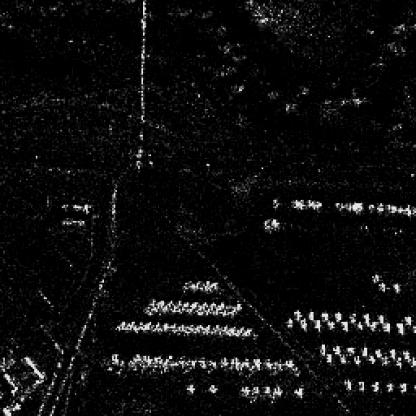airplane: (395, 354, 405, 368), (359, 343, 371, 354), (340, 353, 350, 364), (352, 354, 362, 364), (299, 318, 309, 328), (369, 271, 379, 281), (398, 380, 406, 392), (388, 346, 396, 358), (318, 342, 326, 354), (185, 384, 197, 392), (332, 344, 341, 354), (370, 379, 378, 390), (356, 379, 364, 390), (343, 377, 351, 388), (403, 348, 411, 359), (325, 351, 333, 362), (362, 312, 370, 323), (385, 380, 393, 390), (380, 354, 388, 364), (374, 346, 382, 356), (403, 316, 413, 324), (395, 322, 403, 332), (382, 322, 392, 330), (367, 322, 377, 330), (340, 320, 348, 330), (333, 310, 341, 320), (312, 320, 322, 328), (271, 385, 281, 393), (292, 385, 302, 393), (377, 280, 385, 289), (208, 384, 216, 393), (325, 320, 335, 327), (307, 310, 314, 320), (392, 283, 398, 294), (368, 354, 376, 362), (320, 312, 328, 320), (240, 385, 248, 393), (250, 387, 258, 395), (262, 385, 270, 393), (286, 317, 292, 327), (346, 346, 354, 353), (349, 312, 356, 320), (294, 310, 301, 318), (377, 314, 383, 322), (358, 320, 362, 328)
